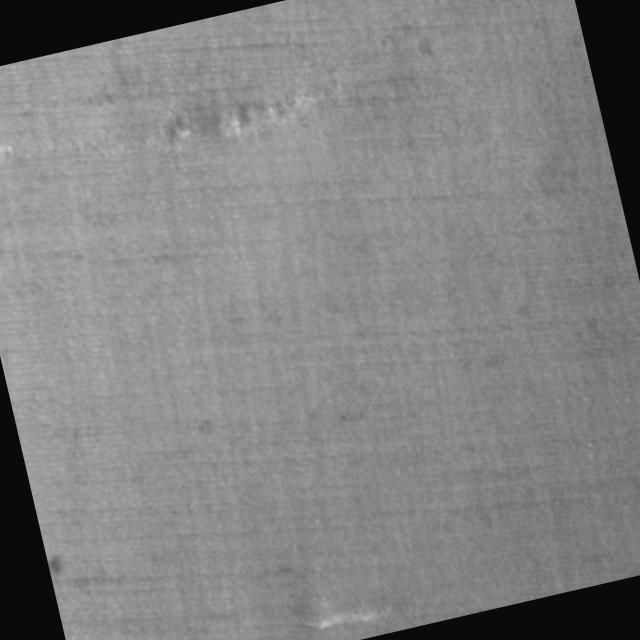thread error: (150, 67, 323, 158)
